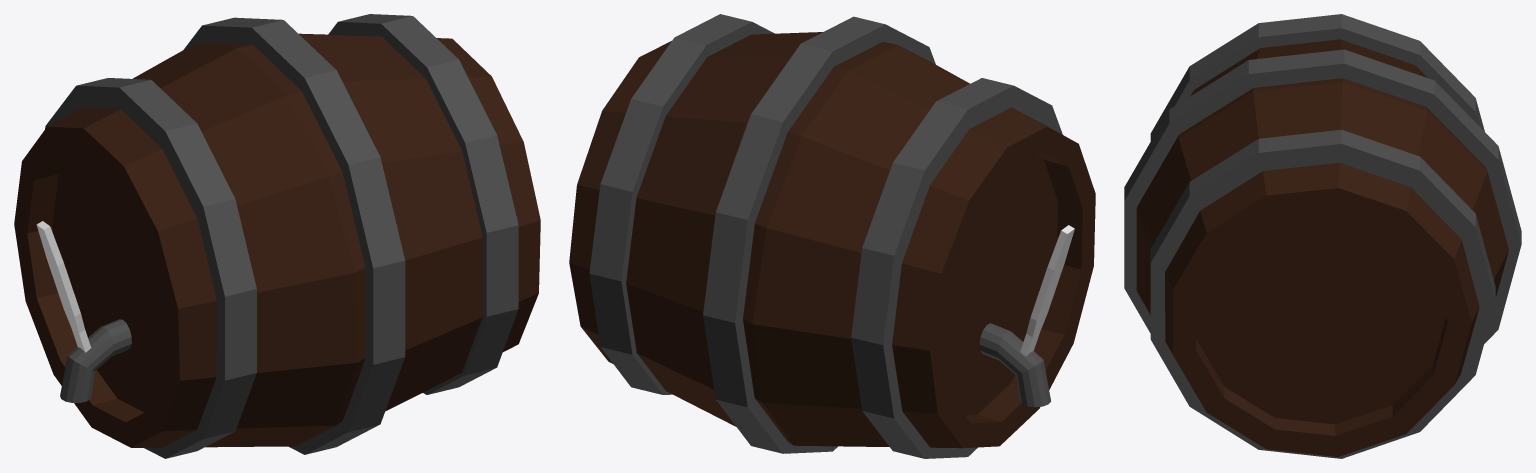
File: Barrel.fbx
3 renders of one model, left to right at view 1: azimuth 30°, elevation 25°; view 2: azimuth 150°, elevation 25°; view 3: azimuth 270°, elevation 25°, orthographic. The views are drawn at different scales.
Parts seen in each view (by area): view 1: Barrel, Rings, BigRing, Cylinder.003, Cube.004; view 2: Barrel, Rings, BigRing, Cylinder.003, Cube.004; view 3: Barrel, Rings, BigRing.
Part boxes in pixels (x1=…): Barrel: x1=14, y1=33, x2=540, y2=447; Rings: x1=45, y1=14, x2=518, y2=458; BigRing: x1=183, y1=17, x2=405, y2=454; Cylinder.003: x1=60, y1=319, x2=131, y2=402; Cube.004: x1=36, y1=221, x2=91, y2=352; Barrel: x1=569, y1=32, x2=1095, y2=448; Rings: x1=589, y1=14, x2=1062, y2=458; BigRing: x1=703, y1=16, x2=935, y2=453; Cylinder.003: x1=979, y1=323, x2=1051, y2=407; Cube.004: x1=1020, y1=225, x2=1074, y2=356; Barrel: x1=1136, y1=39, x2=1508, y2=456; Rings: x1=1150, y1=14, x2=1495, y2=458; BigRing: x1=1124, y1=49, x2=1521, y2=343.
Bounding box in the file's own units: 68.12 × 75.77 × 68.62.
